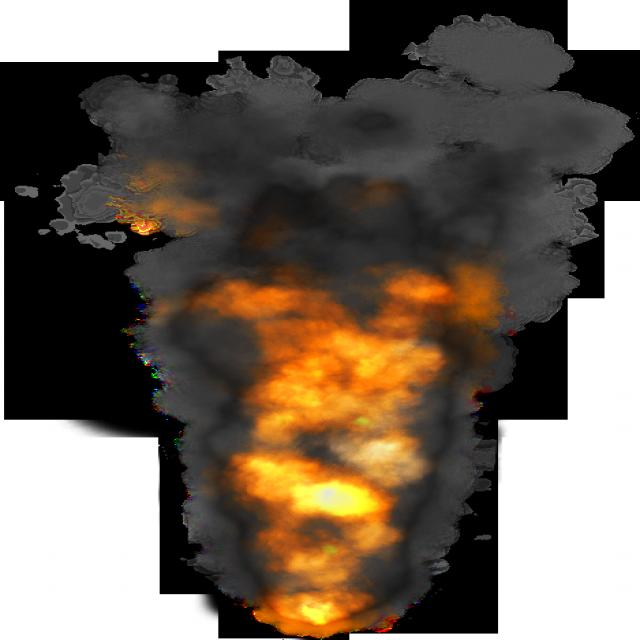fire: (164, 122, 434, 615)
